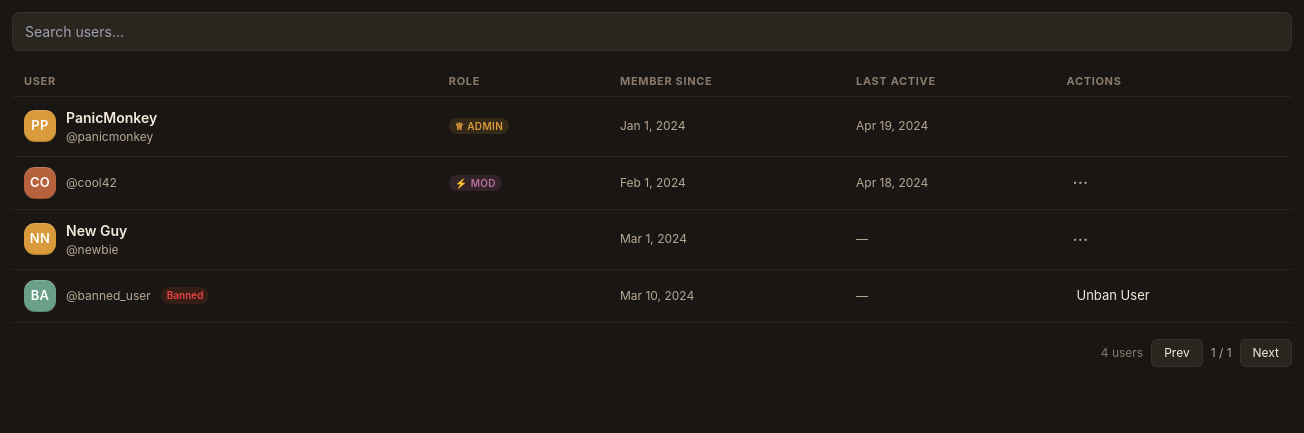
UserTable — reset password › shows a success notice after sending a reset email
Click the button titled "actions" in the row of "cool42": (1080, 182) [1066,167,1094,198]
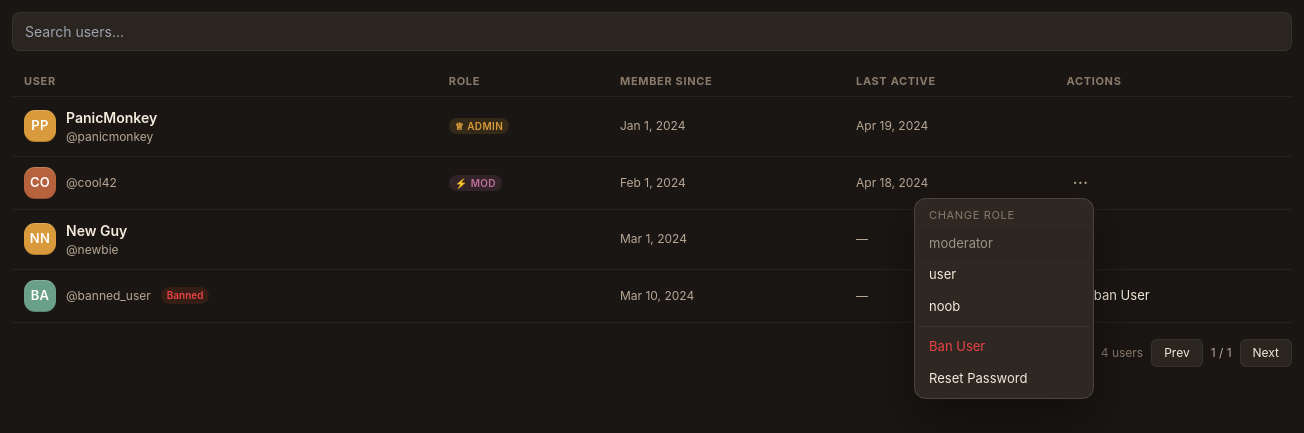
Click the button "Reset Password": (1004, 378) [919,362,1089,394]
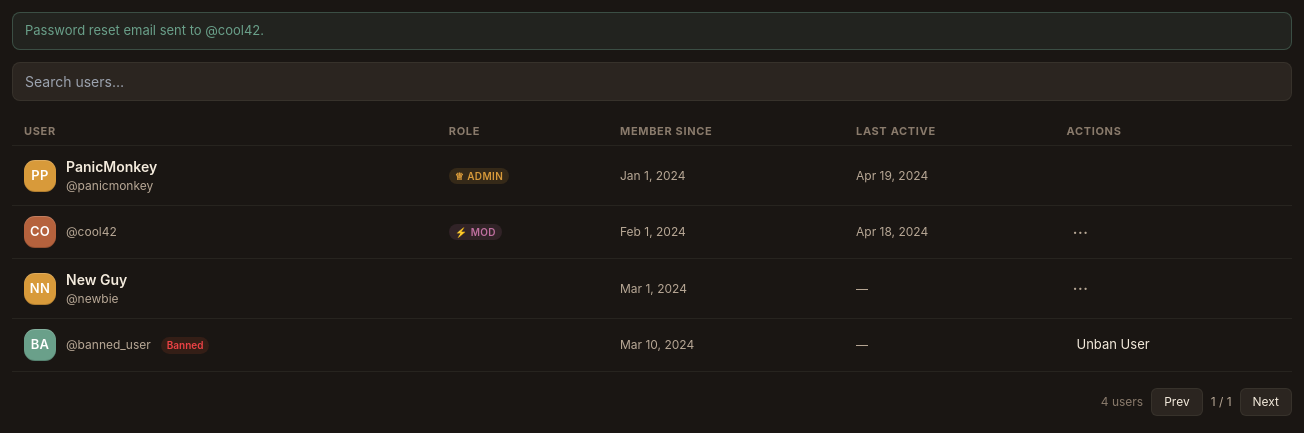
Now the text "Password reset email sent to @cool42." is shown, box [12,12,1292,50]
